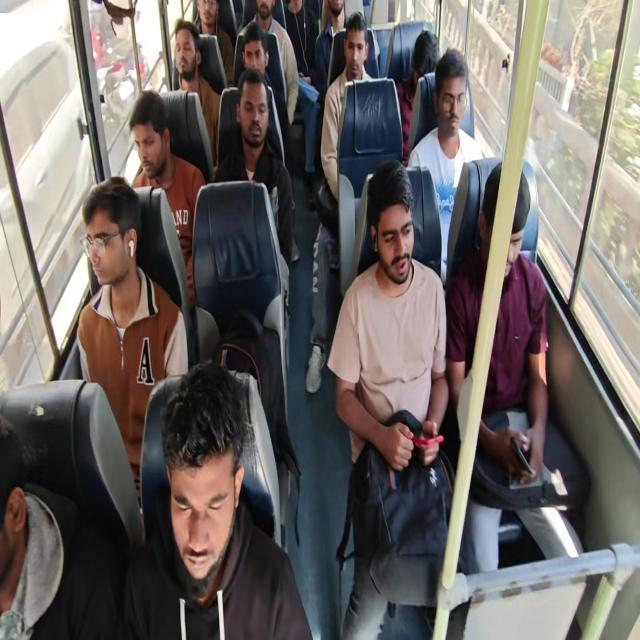person: (326, 158, 456, 638), (445, 161, 587, 575), (121, 360, 313, 638), (76, 176, 189, 509), (0, 416, 122, 639), (305, 12, 374, 394), (407, 47, 484, 286), (128, 89, 206, 306), (214, 67, 294, 266), (283, 0, 321, 208), (237, 0, 298, 125), (172, 19, 221, 167), (396, 30, 440, 164), (191, 0, 234, 86), (314, 0, 349, 92), (283, 0, 318, 85)
